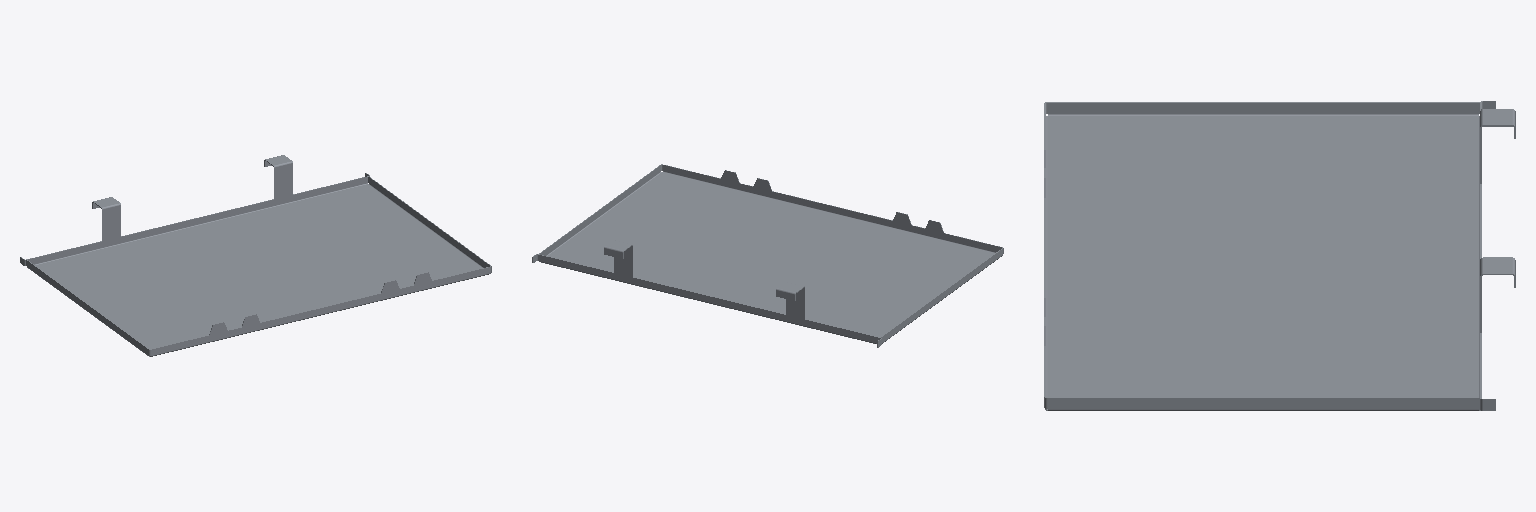
URDF robot description (grill_rack):
<?xml version="1.0"?>
<!--
  grill_rack.urdf
  구이 준비/완료 거치대 (석쇠 받침대, 낮은 랙). 단일 바디(링크 1개).
  - 원본: assets/rag.step (STEP → STL 변환, mm 단위 → m 스케일) — 이전 "구이 준비, 완료
    거치대.step"과 치수 완전 동일(재추출본), 콜리전 보정 값 그대로 유효.
  - 시각(visual): meshes/grill_rack.stl (전체 바운딩박스 0.905x0.603x0.103m, 위치결정용 핀 2개 포함)
  - 충돌(collision): 얇은 바닥판만 반영 — 삼각형 면적 분석 결과 실제 "바닥판"은 0~2mm
    두께이고, 103mm까지 올라가는 건 위치결정용 얇은 핀 2개(면적 <1cm^2, 하중면 아님)뿐이라
    전체 바운딩박스로 콜리전을 잡으면 바스켓이 핀 높이(10cm)에서 뜬다 — 바닥판 두께만 사용.
  - 메쉬 원점: x는 중심 정렬(-0.4525~0.4525), y는 비대칭(-0.28~0.323), z는 바닥(0~0.103).
  - 준비존/완료존 양쪽에 동일 에셋을 재사용.
-->
<robot name="grill_rack">

  <material name="rack_steel"> <color rgba="0.6 0.62 0.65 1.0"/> </material>

  <link name="base_link">
    <inertial>
      <origin xyz="0 0.0215 0.0025"/>
      <mass value="8.0"/>
      <!-- 박스 관성 (m=8, 0.905x0.603x0.005 근사) -->
      <inertia ixx="0.0243" ixy="0" ixz="0" iyy="0.0546" iyz="0" izz="0.0788"/>
    </inertial>

    <visual>
      <origin xyz="0 0 0"/>
      <geometry><mesh filename="meshes/grill_rack.stl" scale="1 1 1"/></geometry>
      <material name="rack_steel"/>
    </visual>

    <!-- 충돌 박스 = 실제 바닥판 두께(0~5mm, 여유 포함)만 반영. 핀은 충돌에서 제외. -->
    <collision>
      <origin xyz="0 0.0215 0.0025"/>
      <geometry><box size="0.905 0.603 0.005"/></geometry>
    </collision>
  </link>
</robot>

--- Facts derived from the render (not from the file) ---
The picture shows the robot from 3 angles, left to right: view 1: azimuth 30°, elevation 25°; view 2: azimuth 150°, elevation 25°; view 3: azimuth 270°, elevation 25°; orthographic projection.
Model grill_rack with 1 links and 0 joints (none), rooted at base_link, posed all joints at 0.
Visible links, largest first — view 1: base_link; view 2: base_link; view 3: base_link.
Boxes of the visible links, bbox=[...] form: base_link: bbox=[20, 155, 491, 356]; base_link: bbox=[532, 164, 1003, 347]; base_link: bbox=[1044, 101, 1515, 410].
Size in the robot's own frame: 0.905 by 0.603 by 0.103 metres.
Meshes: 1 distinct files referenced, 1 mesh visuals loaded (1 binary STL).
